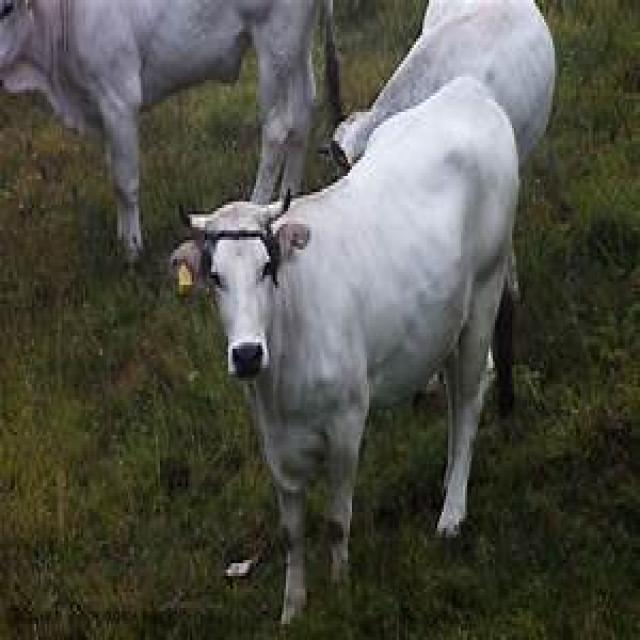cow: (171, 77, 521, 627), (0, 0, 331, 253)
